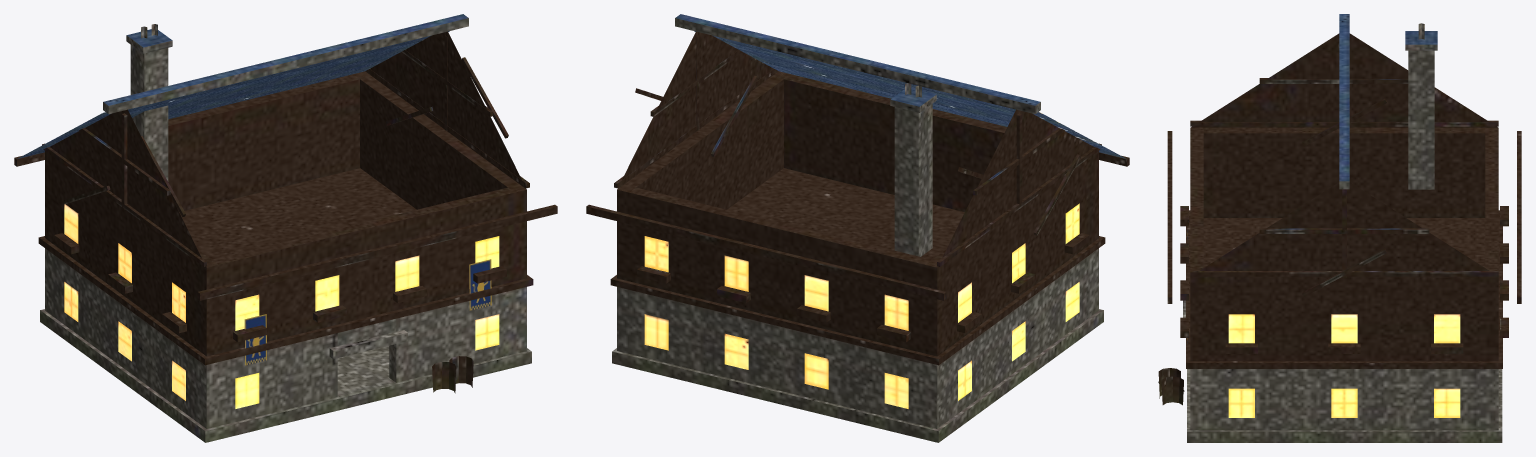
The model's file is bld_thieves_card_lod2.glb.
3 views of the same model, side by side, from view 1: azimuth 30°, elevation 25°; view 2: azimuth 150°, elevation 25°; view 3: azimuth 270°, elevation 25° (orthographic). The views are drawn at different scales.
Parts seen in each view (by area): view 1: thieves_card; view 2: thieves_card; view 3: thieves_card.
Part boxes in pixels (x1,y1,x2,y2): thieves_card: (14,14,557,442); thieves_card: (586,14,1129,442); thieves_card: (1158,14,1521,442).
Bounding box in the file's own units: 25.56 × 18.86 × 21.03.
1 material, 1 textured.
